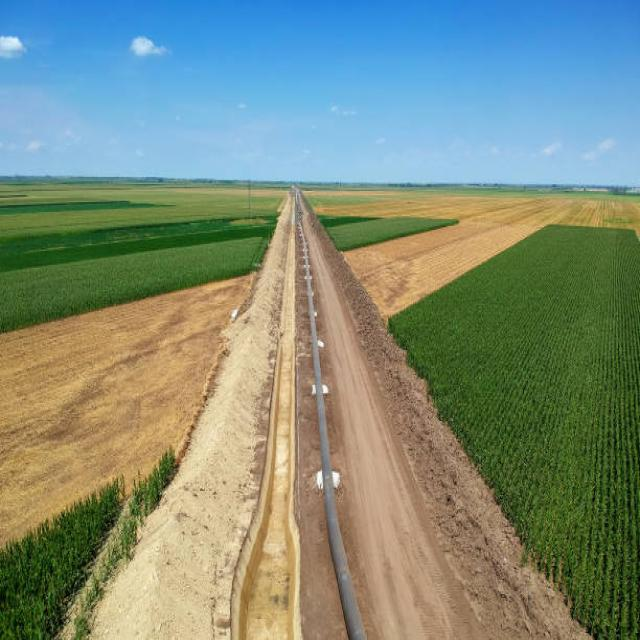gas: (300, 218, 370, 640)
